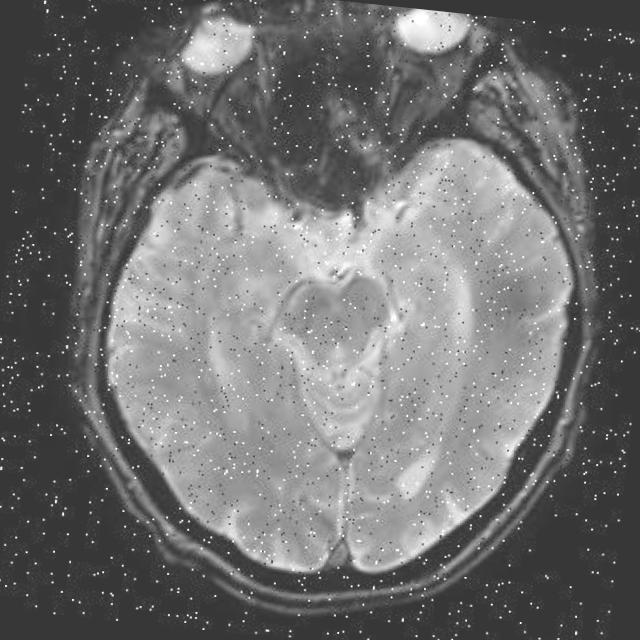MCI: (446, 224, 586, 384), (148, 136, 271, 244)
